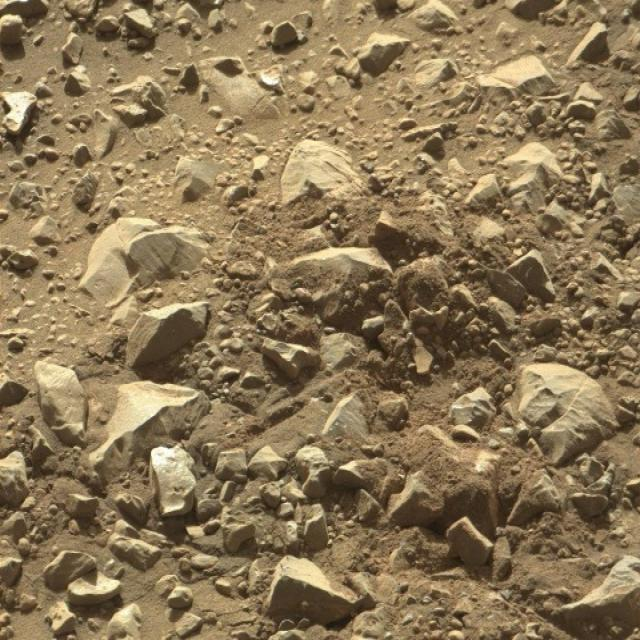mars-rocks: (88, 382, 209, 484), (78, 218, 208, 307), (514, 364, 620, 466), (552, 557, 640, 640), (264, 557, 360, 626), (126, 304, 209, 368), (33, 362, 88, 446), (150, 447, 194, 518)
